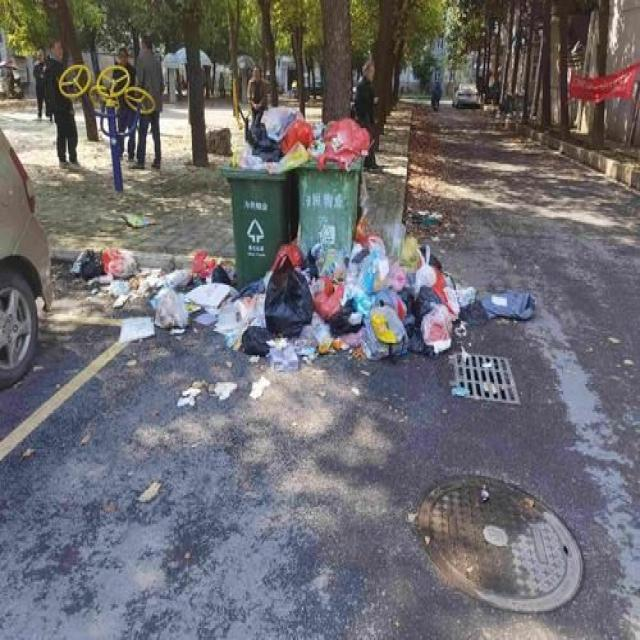garbage: (73, 208, 531, 403)
overflow: (222, 104, 298, 280), (296, 116, 367, 256)
